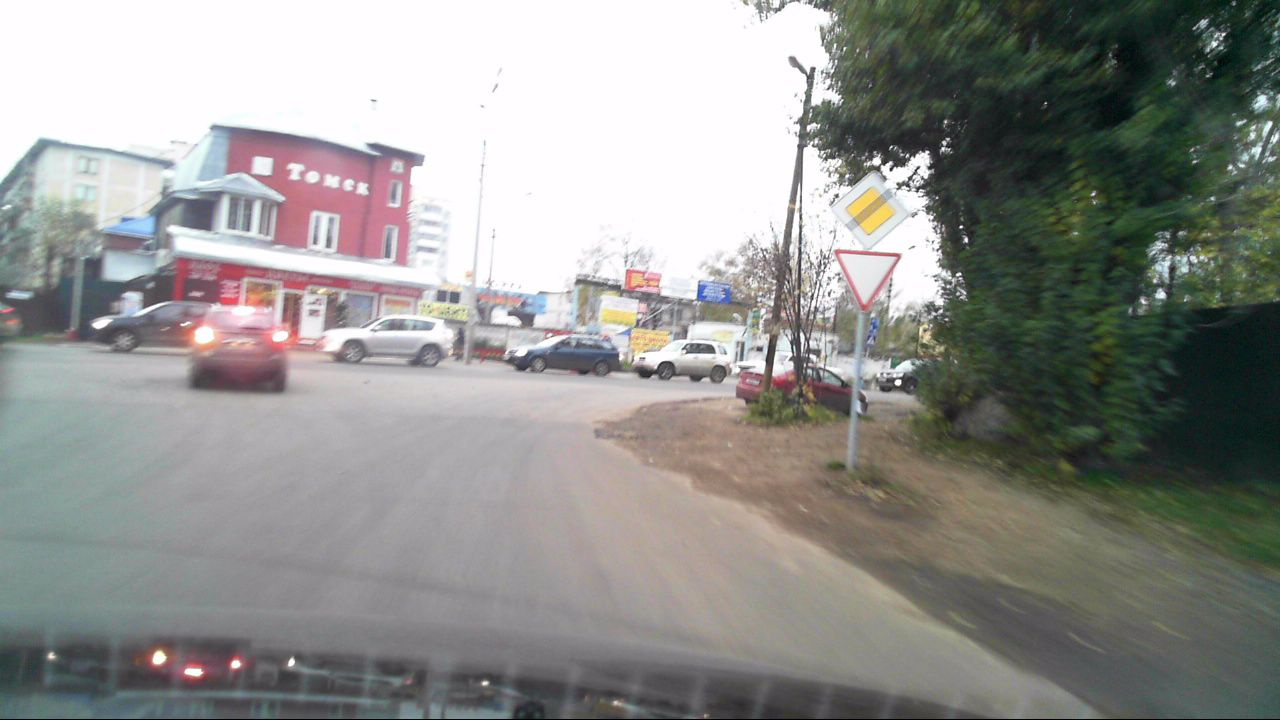main road: (833, 170, 909, 250)
